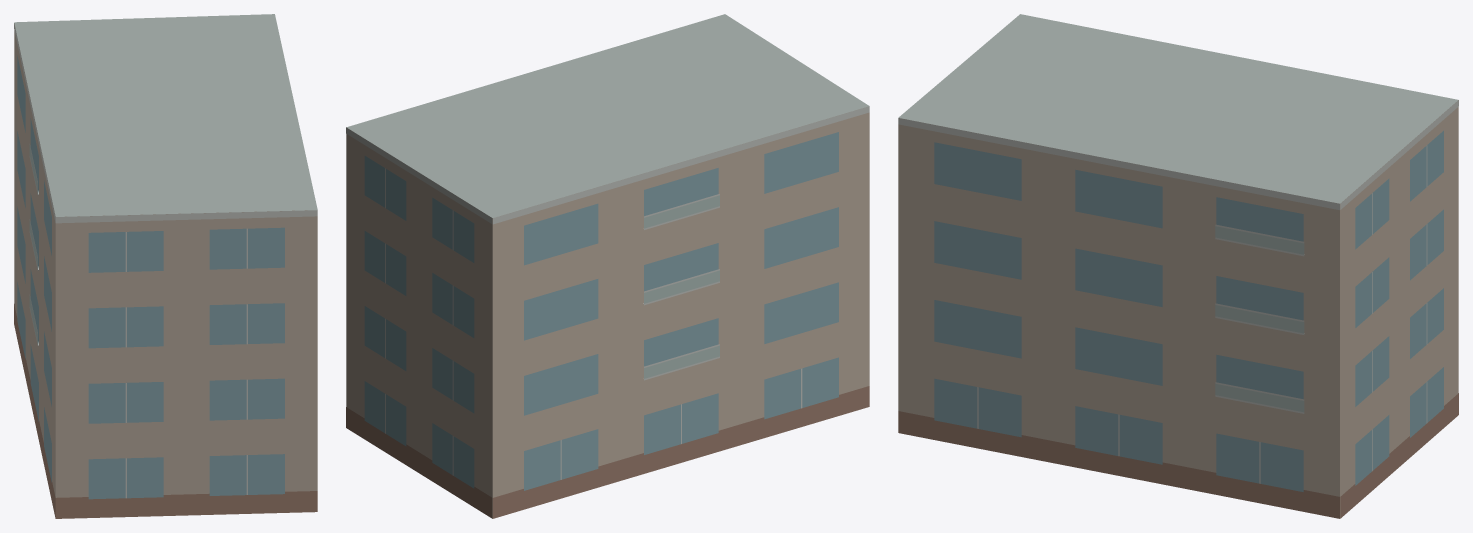
The model's file is survey-upis-32984370.glb.
3 renders of one model, left to right at view 1: azimuth 30°, elevation 25°; view 2: azimuth 150°, elevation 25°; view 3: azimuth 270°, elevation 25°, orthographic. The views are drawn at different scales.
Visible parts, largest first — view 1: survey-upis-32984370.tmp; view 2: survey-upis-32984370.tmp; view 3: survey-upis-32984370.tmp.
Boxes of the visible parts, x1,y1,x2,y2 form: survey-upis-32984370.tmp: (14, 14, 317, 518); survey-upis-32984370.tmp: (346, 14, 869, 518); survey-upis-32984370.tmp: (898, 14, 1458, 518).
Bounding box in the file's own units: 15.12 × 11.7 × 18.87.
